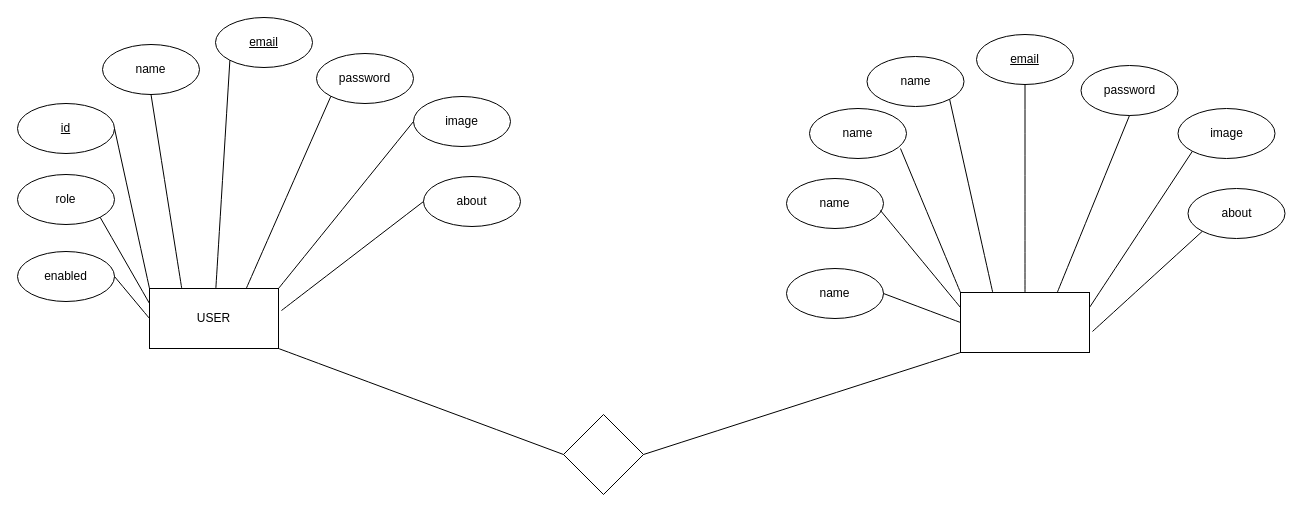
The diagram is 1303 pixels wide and 512 high, and some of its shapes have lost their labels. The box of each missing label's shape, as (x1, y1, x2, y2) in pixels:
CONTACT: (960, 292, 1090, 352)
has: (562, 414, 644, 494)
